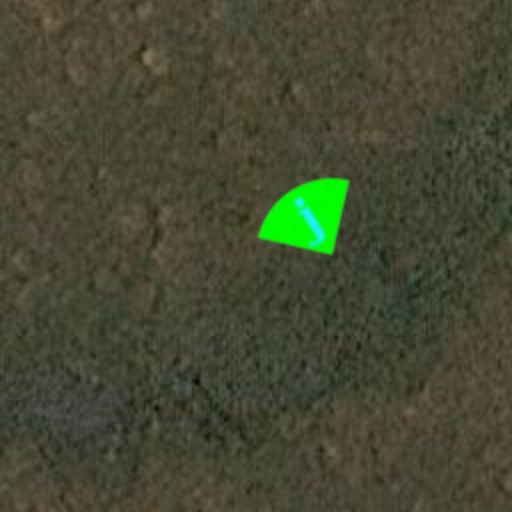quarter_circle: (236, 144, 380, 288)
